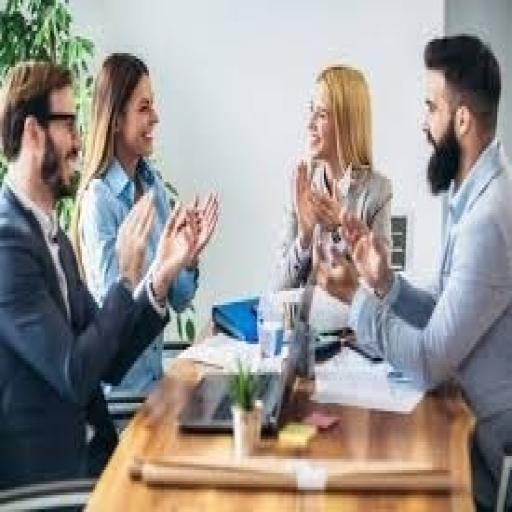clapping: (0, 53, 216, 493), (339, 31, 510, 509), (266, 62, 395, 336)
